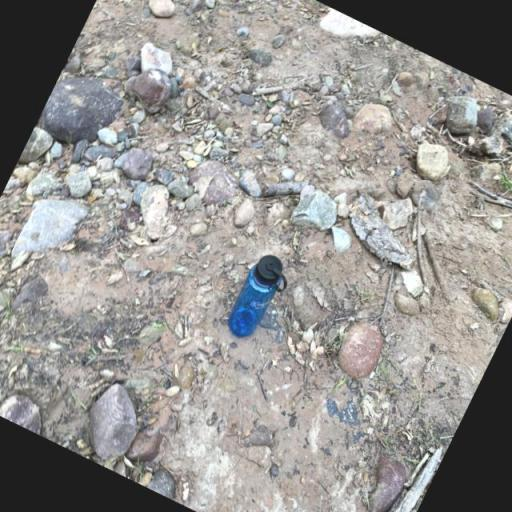bottle: (220, 248, 296, 346)
